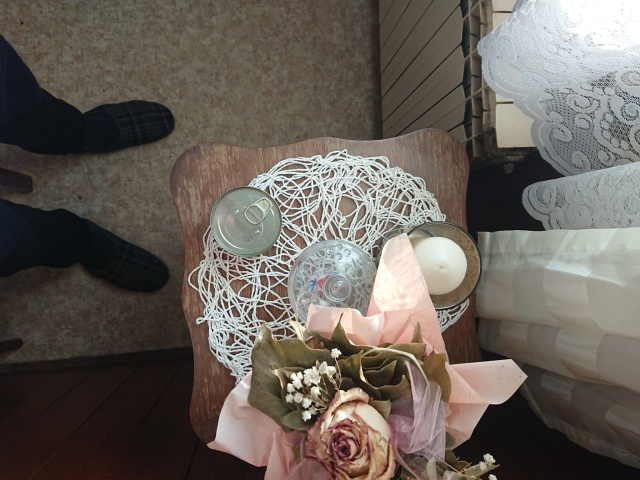Podravka Luncheon Meat 150g: (208, 184, 285, 260)
